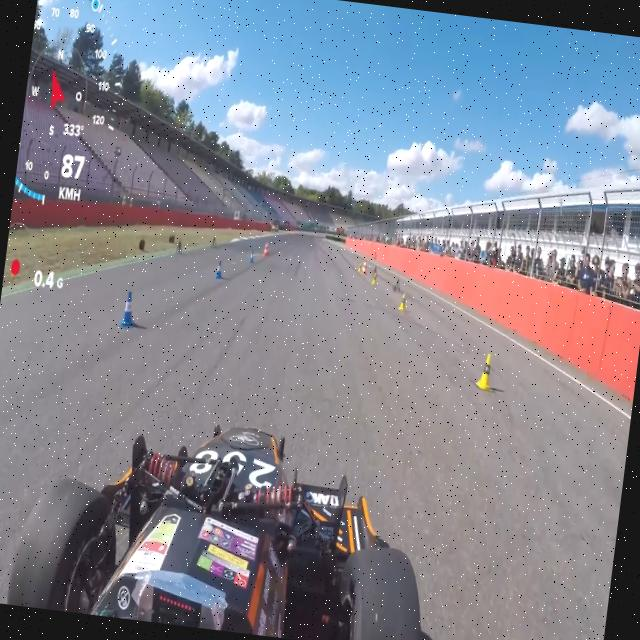blue_cone: (116, 288, 140, 328), (214, 258, 224, 280), (249, 249, 255, 263)
large_orange_cone: (262, 240, 270, 256), (362, 258, 368, 274)
yellow_cone: (474, 351, 494, 392), (398, 292, 407, 310), (371, 272, 376, 284)
